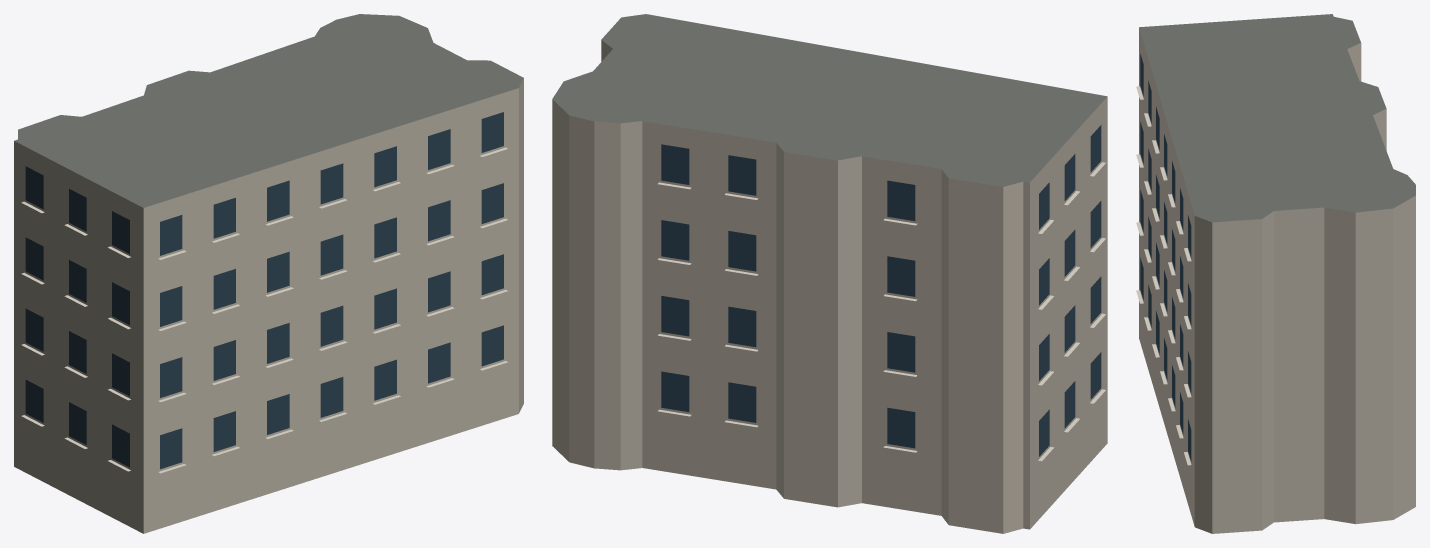
3 renders of one model, left to right at view 1: azimuth 30°, elevation 25°; view 2: azimuth 150°, elevation 25°; view 3: azimuth 270°, elevation 25°, orthographic. The views are drawn at different scales.
Parts seen in each view (by area): view 1: Footprint 0, Inferred window bays, Window sills; view 2: Footprint 0, Inferred window bays, Window sills; view 3: Footprint 0, Inferred window bays, Window sills.
Part boxes in pixels (x1,y1,x2,y2): Footprint 0: [14, 14, 523, 533]; Inferred window bays: [25, 112, 503, 469]; Window sills: [21, 147, 507, 473]; Footprint 0: [552, 14, 1107, 533]; Inferred window bays: [661, 125, 1101, 456]; Window sills: [658, 162, 1105, 461]; Footprint 0: [1139, 14, 1415, 533]; Inferred window bays: [1140, 54, 1191, 461]; Window sills: [1136, 86, 1191, 465].
Bounding box in the file's own units: 22.74 × 15.77 × 12.84.
